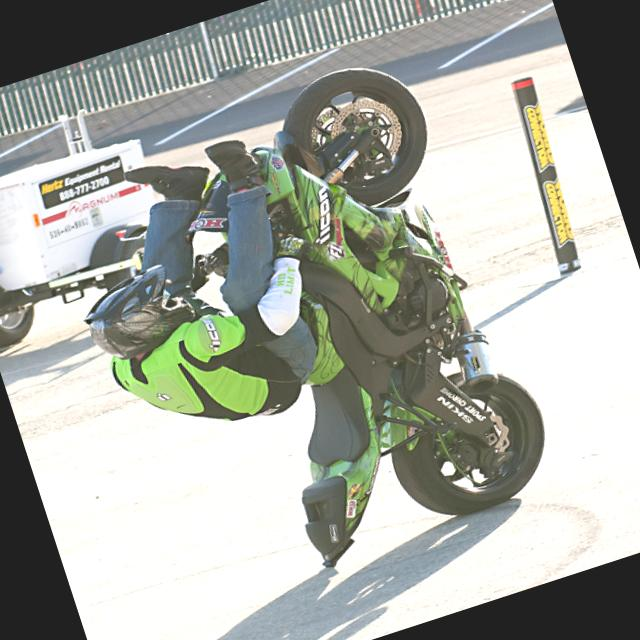Vehicle: (171, 30, 568, 564)
